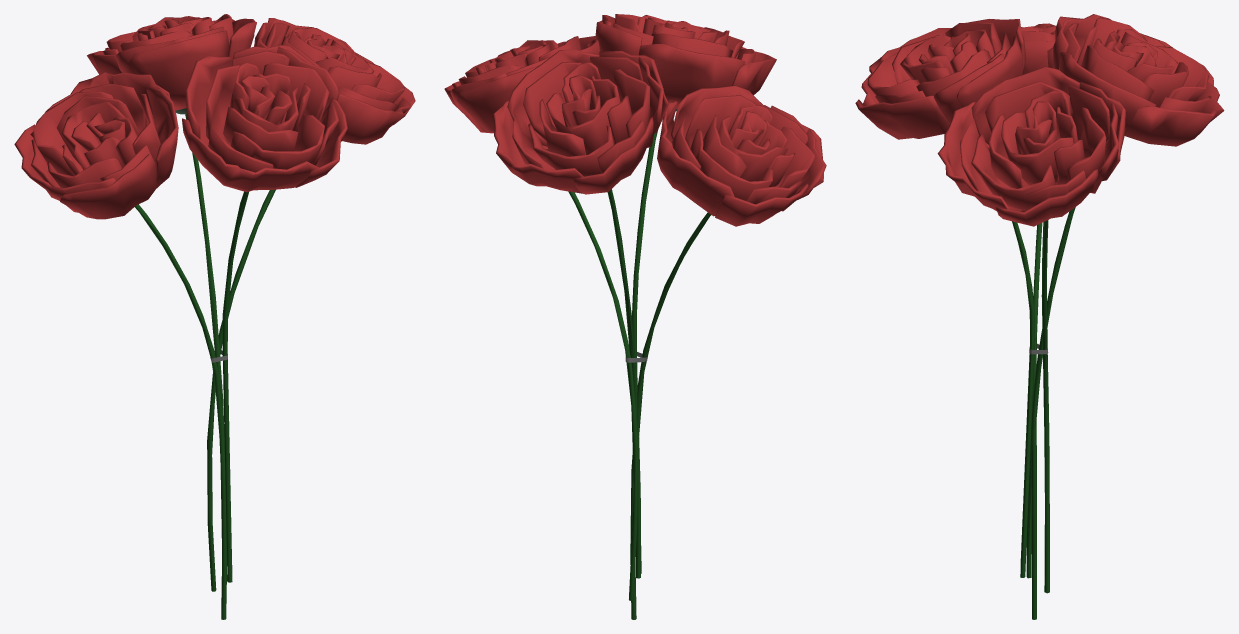
File: Flower.fbx
3 views of the same model, side by side, from view 1: azimuth 30°, elevation 25°; view 2: azimuth 150°, elevation 25°; view 3: azimuth 270°, elevation 25° (orthographic). The views are drawn at different scales.
Visible parts, largest first — view 1: Flower.003, Flower.001, Flower.002, Flower.004, Stem03, Stem02, Stem04, Stem01; view 2: Flower.002, Flower.001, Flower.003, Flower.004, Stem04, Stem02, Stem01, Stem03; view 3: Flower.004, Flower.002, Flower.003, Stem04, Stem03, Stem01, Stem02, Flower.001.
Part boxes in pixels (x1,y1,x2,y2): Flower.003: (182,44,347,192); Flower.001: (14,71,178,219); Flower.002: (87,14,256,110); Flower.004: (254,18,415,144); Stem03: (222,191,248,582); Stem02: (185,114,227,582); Stem04: (207,189,275,591); Stem01: (135,204,226,619); Flower.002: (492,48,668,194); Flower.001: (657,85,826,226); Flower.003: (595,14,776,108); Flower.004: (444,36,599,133); Stem04: (568,191,637,600); Stem02: (607,189,640,578); Stem01: (630,212,710,619); Stem03: (632,130,657,573); Flower.004: (937,66,1125,226); Flower.002: (1053,14,1224,146); Flower.003: (855,19,1026,139); Stem04: (1041,220,1049,593); Stem03: (1012,221,1035,577); Stem01: (1031,223,1042,619); Stem02: (1026,207,1075,578); Flower.001: (1021,23,1056,74).
Size of the model in its own units: 144 by 218 by 124.
